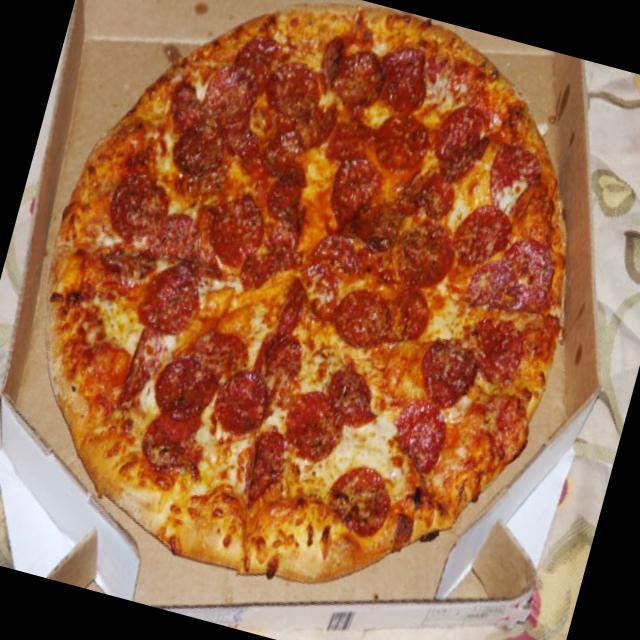pepperoni: (456, 222, 560, 331), (240, 174, 314, 298), (381, 208, 463, 301), (230, 102, 317, 188), (302, 224, 372, 326), (318, 455, 399, 542), (430, 92, 506, 182), (442, 197, 516, 280), (201, 186, 274, 270), (148, 348, 224, 428), (207, 362, 280, 444), (280, 381, 350, 465), (101, 169, 173, 249), (165, 115, 237, 192), (386, 395, 452, 478), (466, 313, 534, 392), (316, 360, 386, 435), (140, 260, 210, 335), (366, 101, 436, 174), (259, 49, 327, 122), (394, 156, 462, 228), (90, 236, 158, 306), (192, 60, 258, 130), (328, 153, 388, 230), (328, 41, 392, 112), (245, 323, 308, 394), (378, 39, 437, 114), (148, 204, 210, 271), (421, 334, 480, 403), (118, 330, 169, 404), (316, 107, 374, 171), (336, 282, 391, 348), (385, 280, 436, 348), (276, 272, 314, 324)
pizza: (42, 5, 563, 585)
